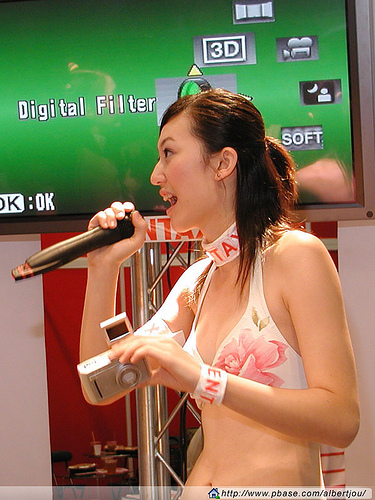without_mask: (150, 116, 244, 235)
